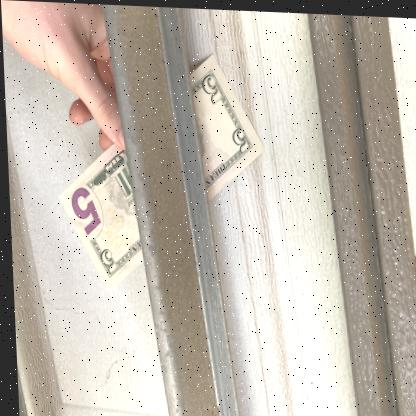five-back: (55, 52, 263, 292)
